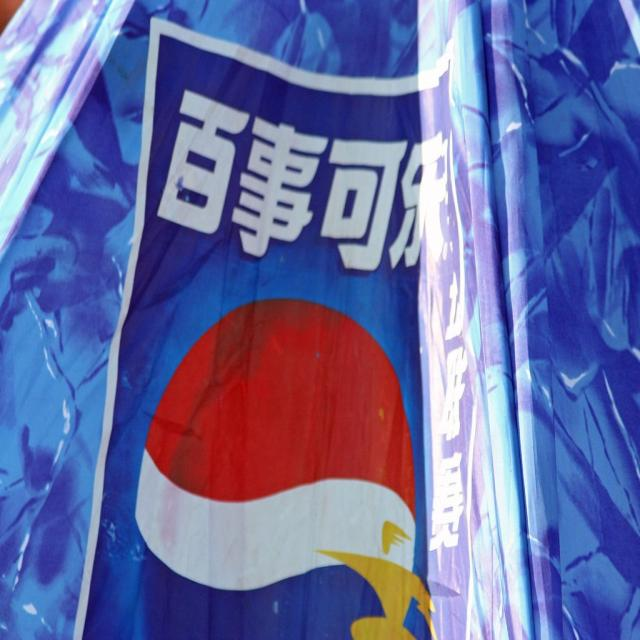pepsi: (129, 277, 421, 640)
